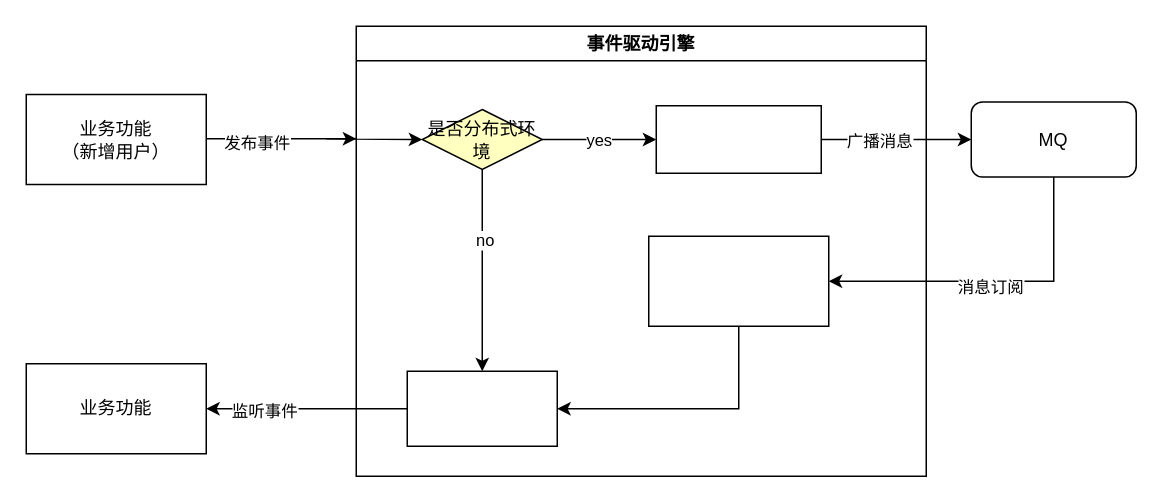
Some shapes in this 1163 by 503 pixel diagram are drawn without their labels. The shapes that lost their labels are listed below. From the top down, each one's centre as x and y in pixels, then its label:
At point 738,138: "组装事件消息".
At point 738,280: "解析消息".
At point 481,408: "触发事件".
